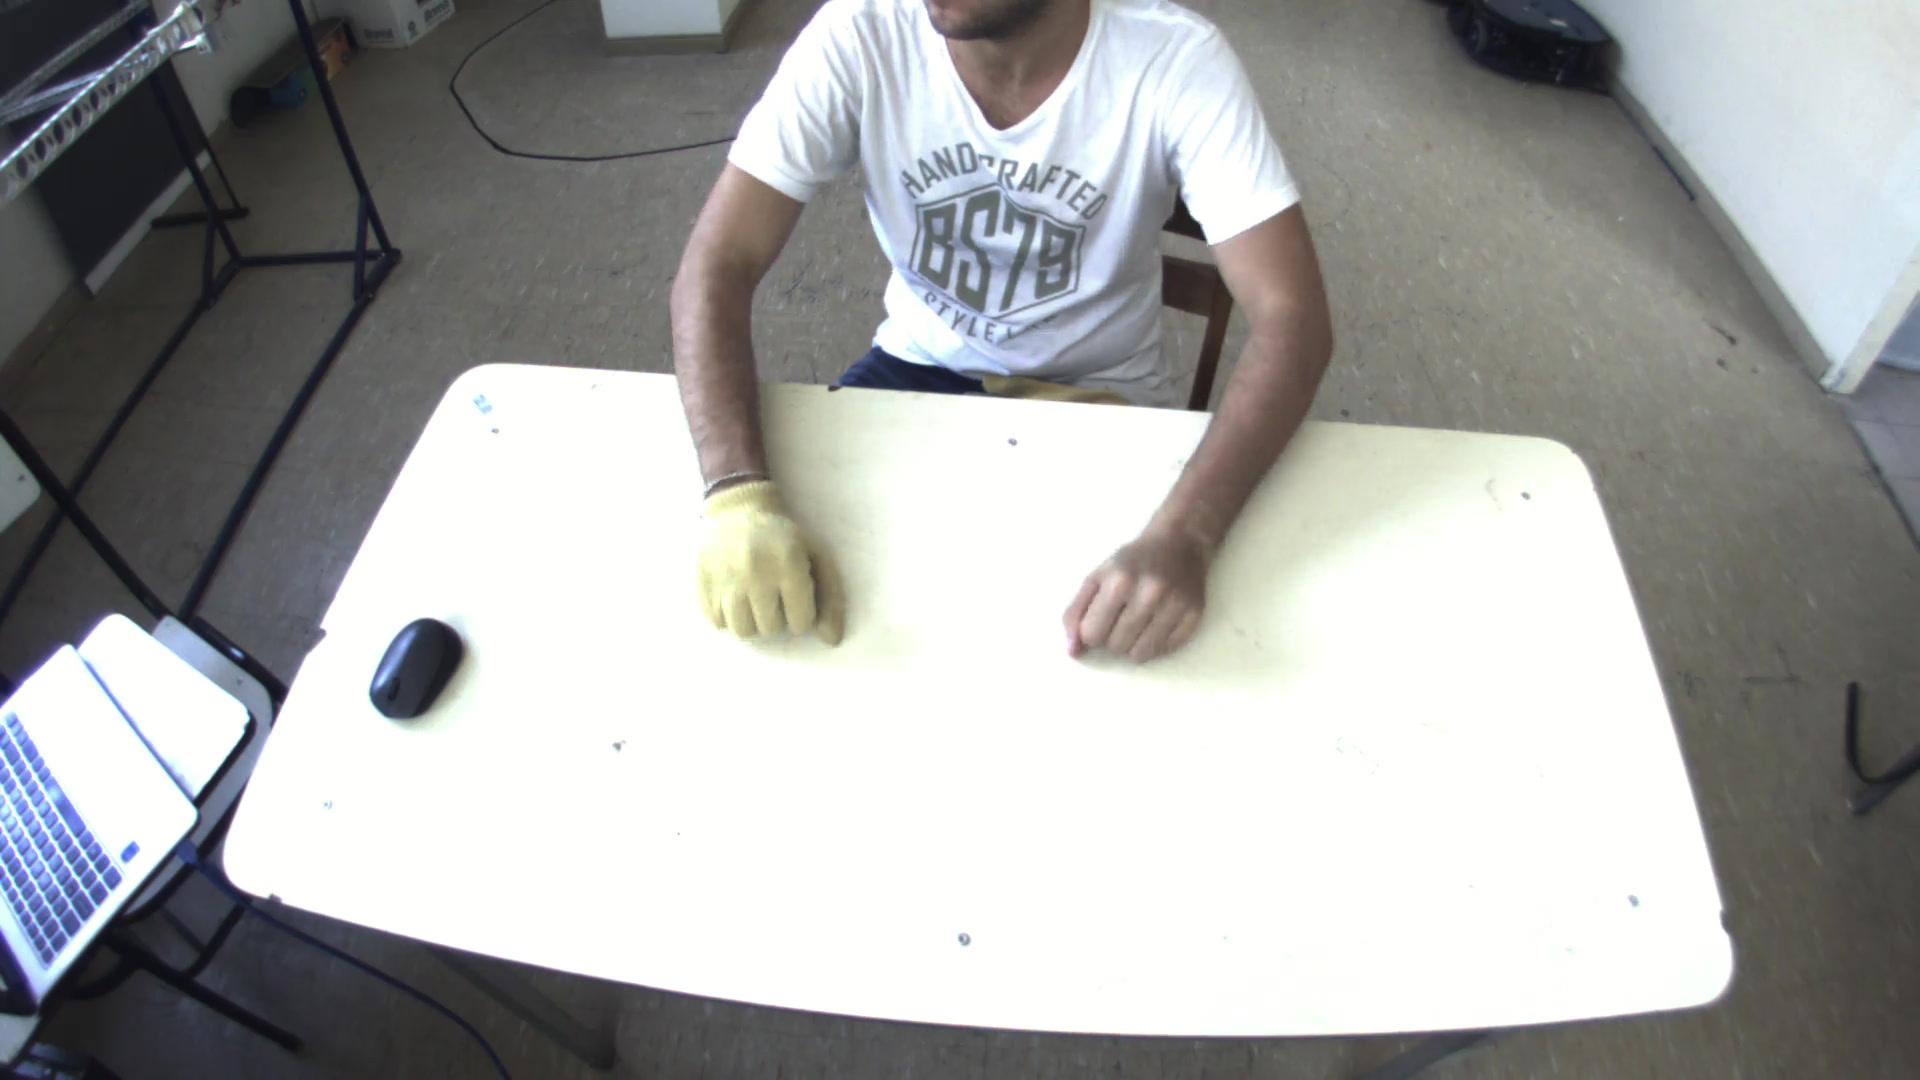hand: (680, 468, 843, 651), (1060, 513, 1229, 667)
